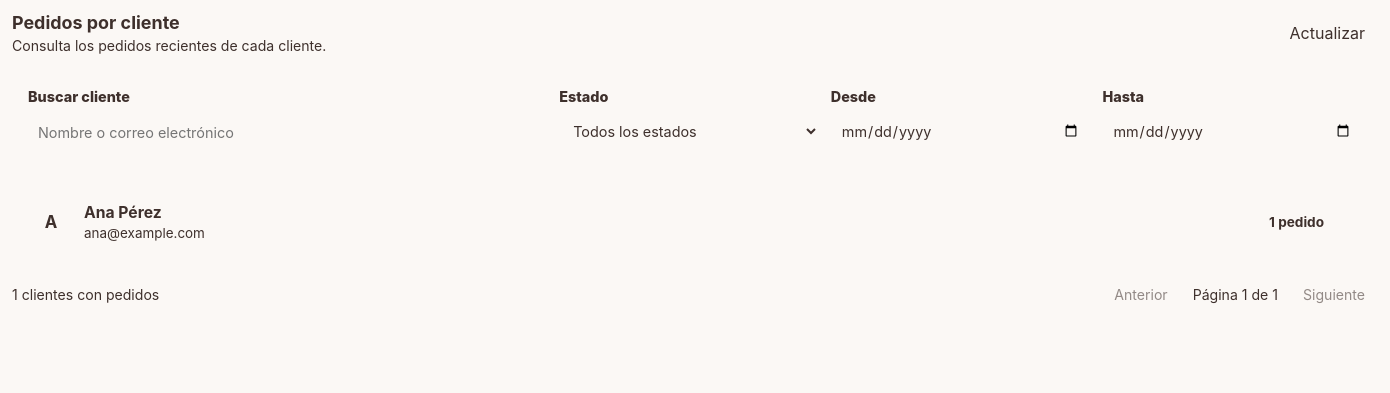
Scenario: CustomerOrders › expande y contrae los pedidos de un cliente
Expected: the text "PED-001" is not shown
Click the button "A Ana Pérez ana@example.com 1 pedido": (123, 212) 12,185 -> 1378,259
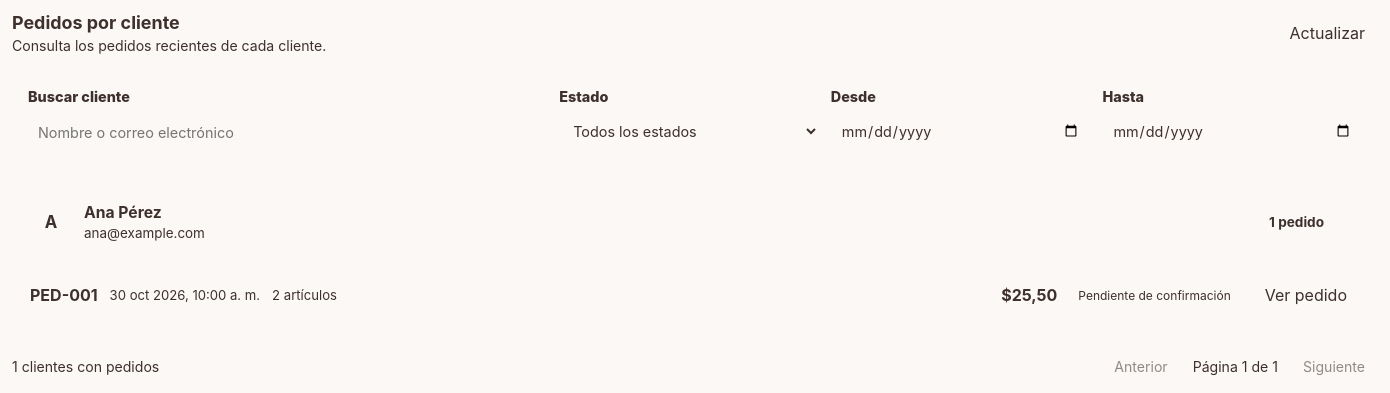
Now the text "PED-001" is shown, box 30,285 -> 98,305
Now the text "2 artículos" is shown, box 272,287 -> 337,303
Click the button "A Ana Pérez ana@example.com 1 pedido": (123, 212) 12,185 -> 1378,259
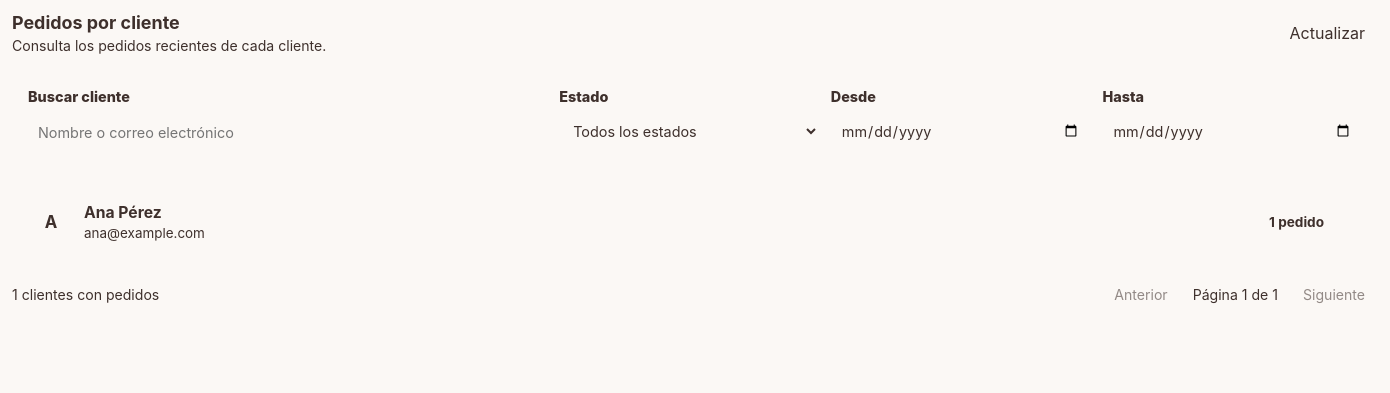
Now the text "PED-001" is gone
